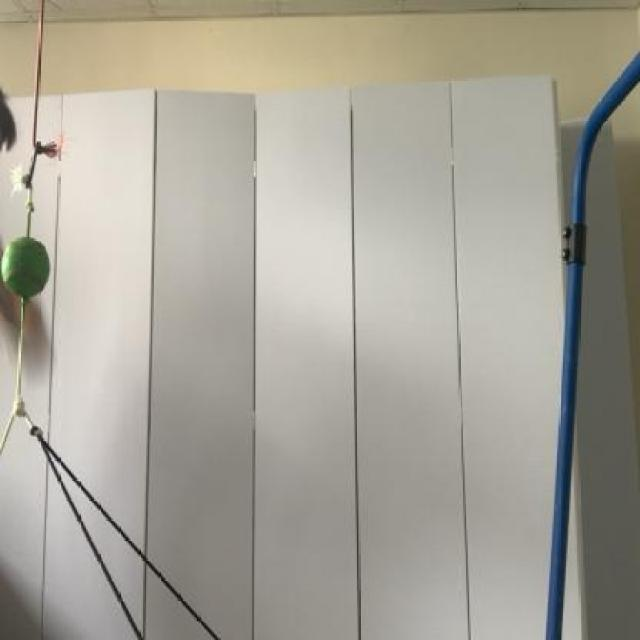baseball: (0, 229, 60, 306)
